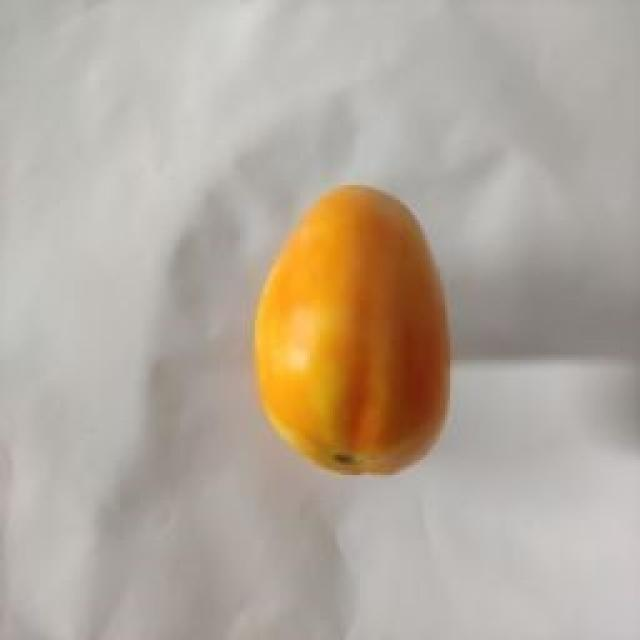unripe: (182, 180, 460, 430)
